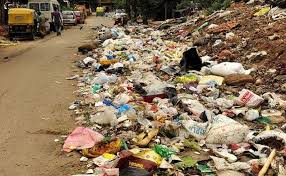garbage: (95, 27, 286, 175), (78, 45, 240, 176)
